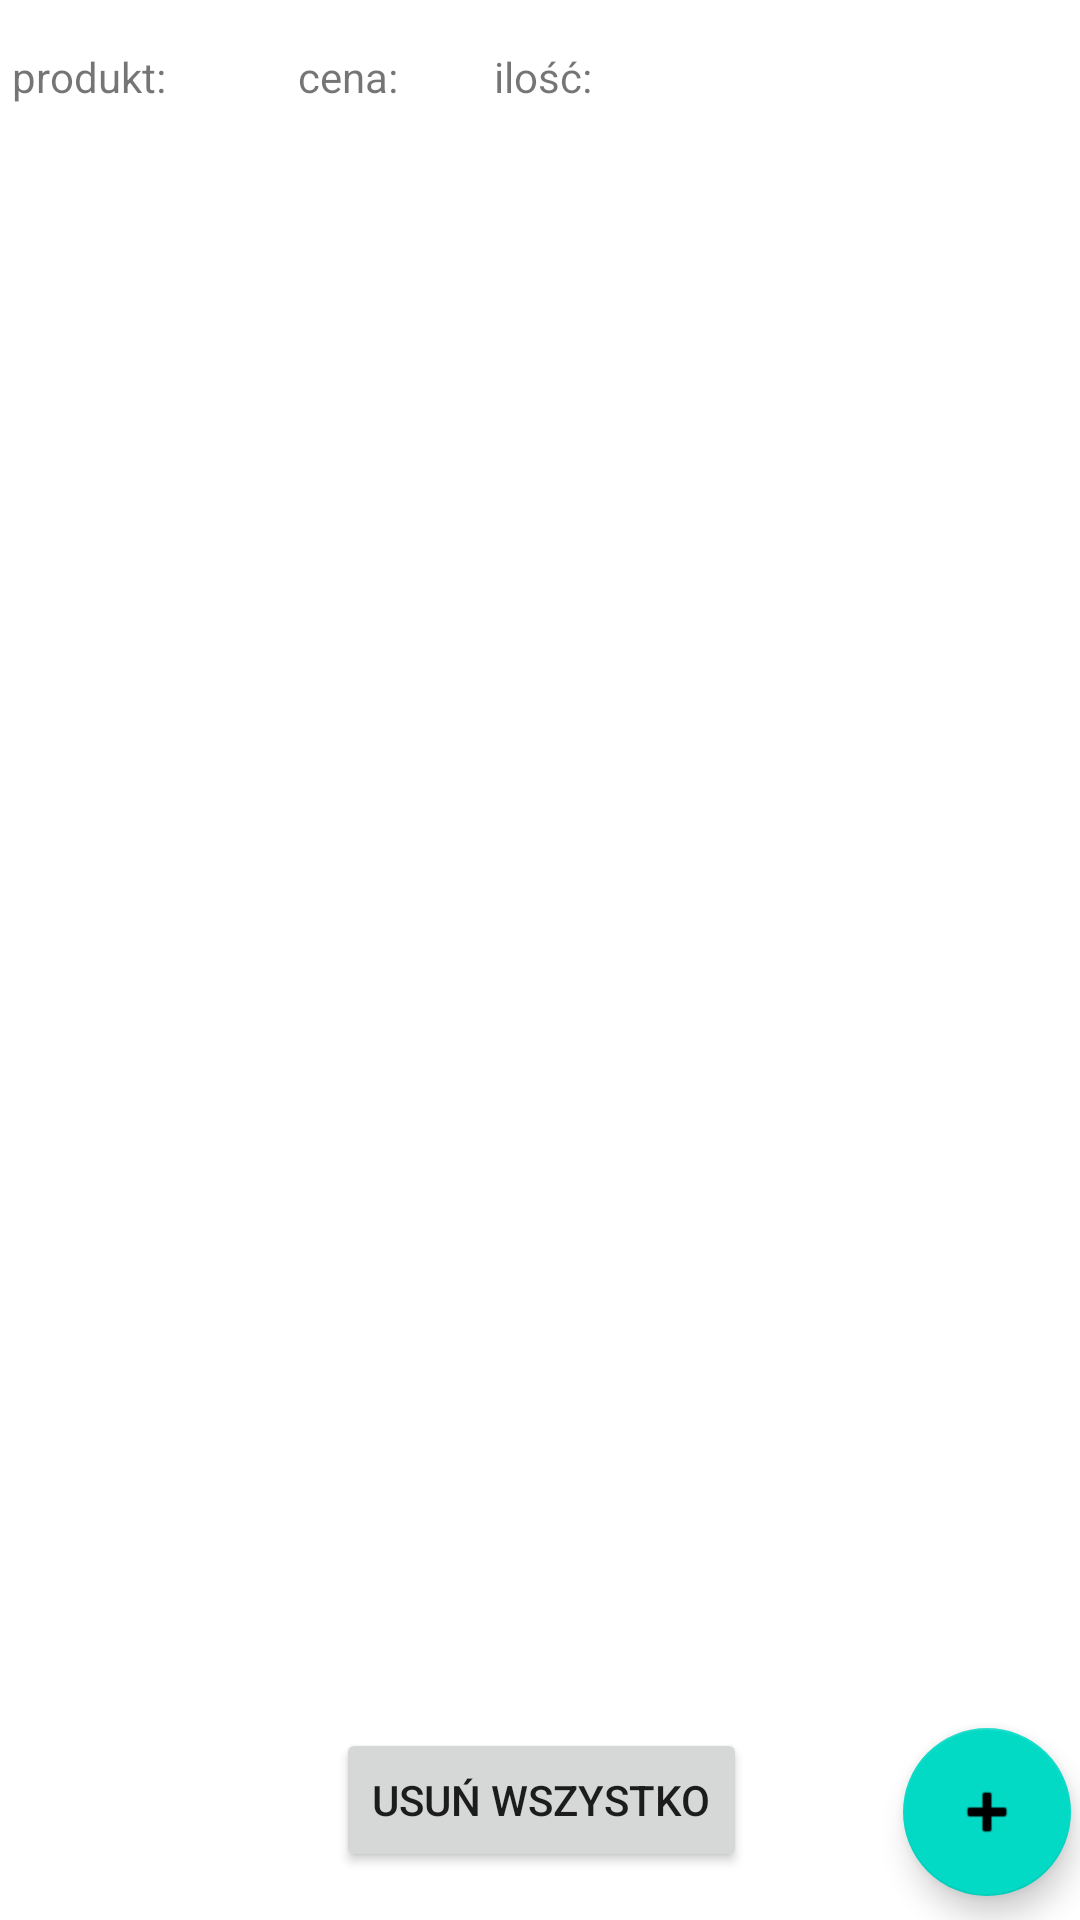

Named icons in this screenshot (1080*1920) and their centers, (x,y):
add: (987,1812)
